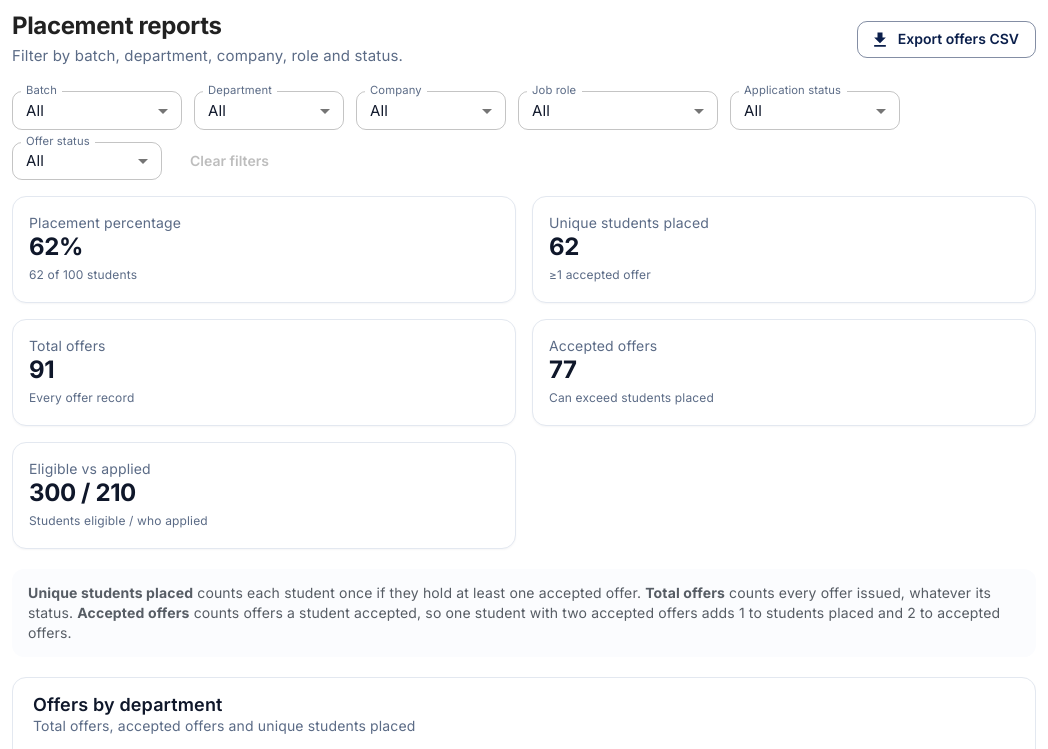
Test: placement reports page › a failing export shows an error toast and downloads nothing
The width and height of the screenshot is (1048, 749).
Click the button "Export offers CSV" at (946, 40), box [857,21,1036,58]
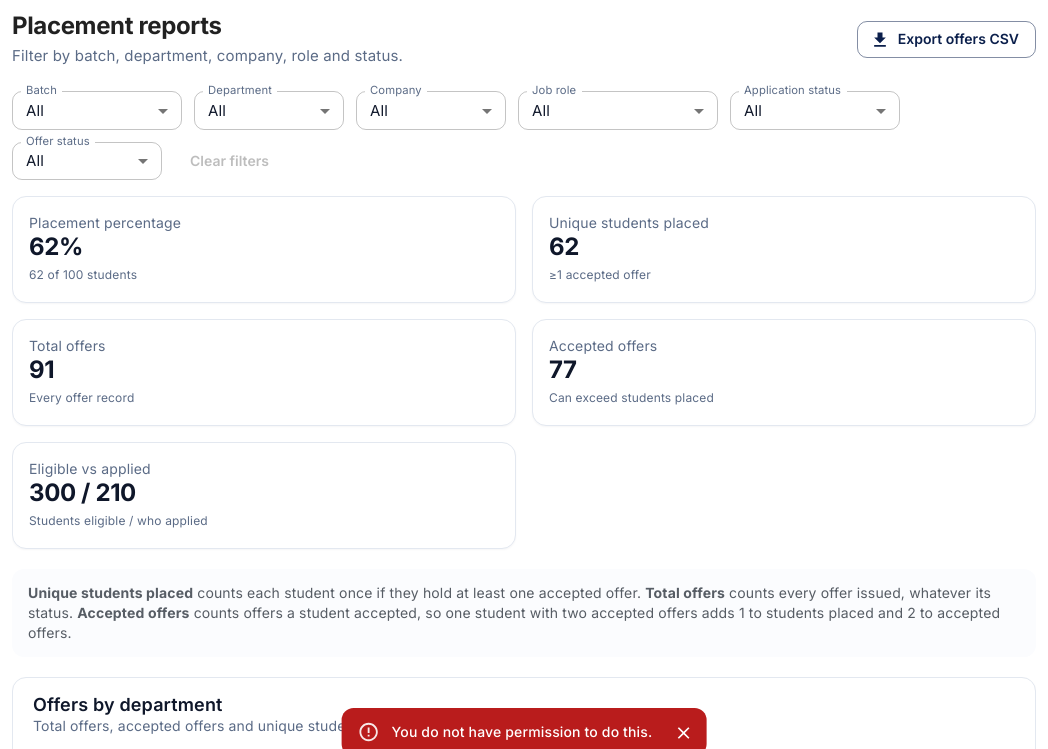
Result: the text "You do not have permission to do this." is shown at [392,723,652,740]
